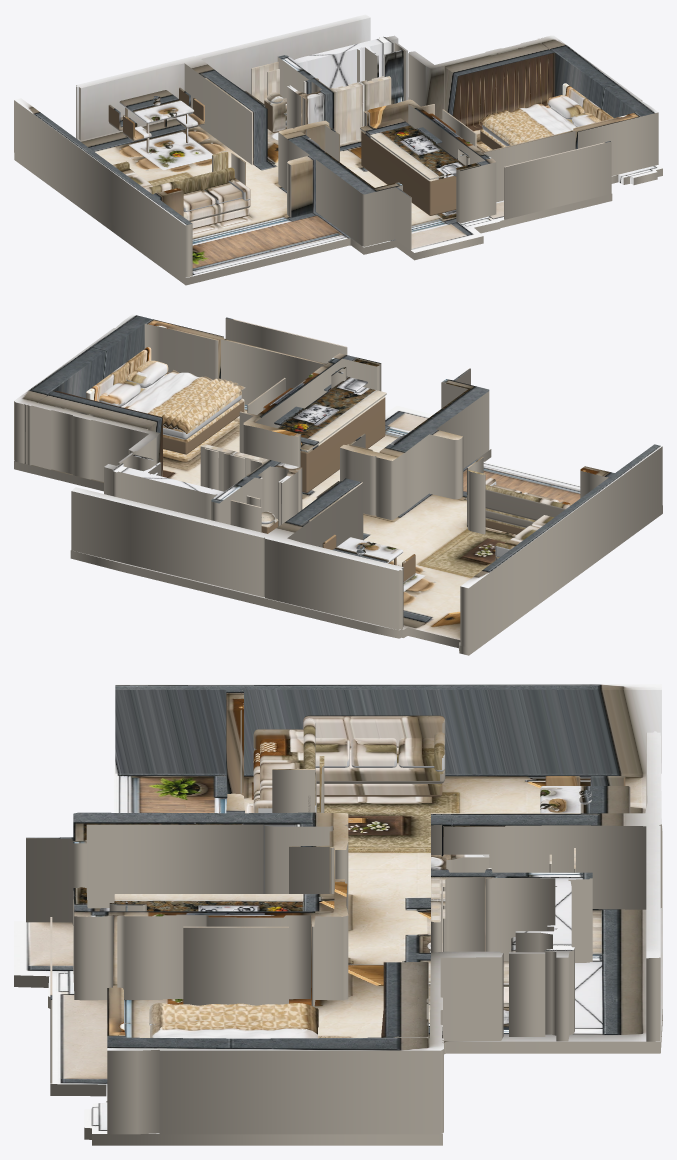
File: p4-02-u07-2110-image-model.glb
3 renders of one model, top to bottom at view 1: azimuth 30°, elevation 25°; view 2: azimuth 150°, elevation 25°; view 3: azimuth 270°, elevation 25°, orthographic. The views are drawn at different scales.
Parts seen in each view (by area): view 1: Partition walls, Apartment floor, Kitchen cabinets, Stone worktop, Draped bed linen, Marble dining top, Sofa back, Upholstered sofa frame, Draped bed linen.001, Upholstered headboard, Inset cooktop, Tailored pillow.001 (+4 smaller); view 2: Partition walls, Apartment floor, Kitchen cabinets, Draped bed linen, Stone worktop, Sofa back, Draped bed linen.001, Walnut upholstered base, Upholstered headboard, Marble dining top, Piped mattress, Tailored pillow (+2 smaller); view 3: Partition walls, Apartment floor, Stone worktop, Draped bed linen, Sofa back.001, Draped bed linen.001, Marble dining top, Upholstered sofa frame.001, Sofa plinth.001, Seat cushion.004, Seat cushion.005, Seat cushion (+2 smaller).
Boxes of the visible parts, box(x1,y1,x2,y2) form: Partition walls: box(14, 14, 658, 277); Apartment floor: box(14, 97, 662, 285); Kitchen cabinets: box(361, 130, 456, 215); Stone worktop: box(360, 118, 455, 179); Draped bed linen: box(479, 104, 575, 144); Marble dining top: box(119, 90, 193, 123); Sofa back: box(145, 167, 234, 194); Upholstered sofa frame: box(183, 198, 250, 221); Draped bed linen.001: box(486, 110, 543, 141); Upholstered headboard: box(562, 83, 613, 120); Inset cooktop: box(395, 127, 442, 148); Tailored pillow.001: box(547, 95, 584, 119); Partition walls: box(14, 314, 662, 647); Apartment floor: box(14, 404, 662, 655); Kitchen cabinets: box(300, 396, 385, 492); Draped bed linen: box(124, 370, 245, 433); Stone worktop: box(278, 387, 386, 452); Sofa back: box(485, 485, 570, 520); Draped bed linen.001: box(162, 378, 238, 429); Walnut upholstered base: box(163, 398, 244, 454); Upholstered headboard: box(86, 347, 151, 401); Marble dining top: box(333, 537, 403, 563); Piped mattress: box(121, 372, 241, 439); Tailored pillow: box(126, 360, 168, 388); Partition walls: box(26, 684, 661, 1134); Apartment floor: box(14, 768, 662, 1145); Stone worktop: box(114, 894, 334, 911); Draped bed linen: box(150, 1003, 317, 1038); Sofa back.001: box(303, 715, 445, 747); Draped bed linen.001: box(149, 1003, 318, 1027); Marble dining top: box(540, 786, 630, 813); Upholstered sofa frame.001: box(315, 747, 445, 783); Sofa plinth.001: box(316, 783, 442, 796); Seat cushion.004: box(351, 738, 396, 767); Seat cushion.005: box(398, 738, 434, 767); Seat cushion: box(260, 738, 303, 763).
Bounding box in the file's own units: 10.72 × 1.3 × 8.02.
14 materials, 3 textured.
